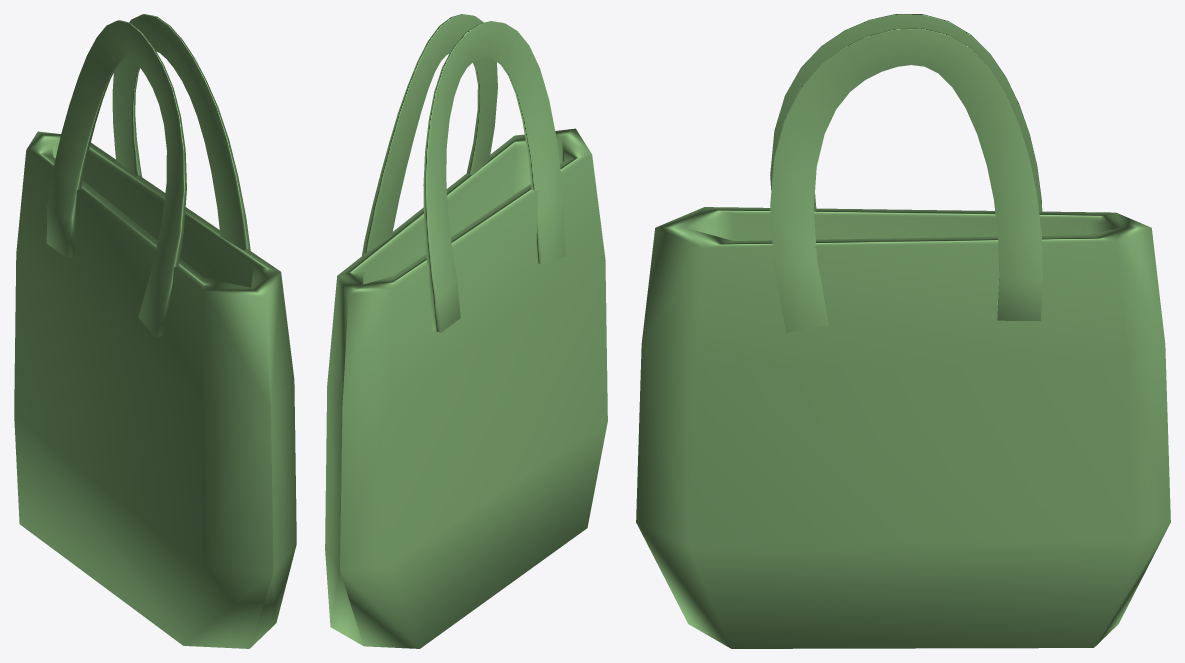
Rendered from MDL_Kaban_geo.fbx.
The picture shows the model from 3 angles, left to right: view 1: azimuth 30°, elevation 25°; view 2: azimuth 150°, elevation 25°; view 3: azimuth 270°, elevation 25°; orthographic projection. The views are drawn at different scales.
Parts seen in each view (by area): view 1: MDL_Kaban_geo; view 2: MDL_Kaban_geo; view 3: MDL_Kaban_geo.
Boxes of the visible parts, <box> form: MDL_Kaban_geo: <box>14,14,296,648</box>; MDL_Kaban_geo: <box>325,14,607,648</box>; MDL_Kaban_geo: <box>636,14,1170,648</box>.
Size of the model in its own units: 0.0786 by 0.4141 by 0.3331.
